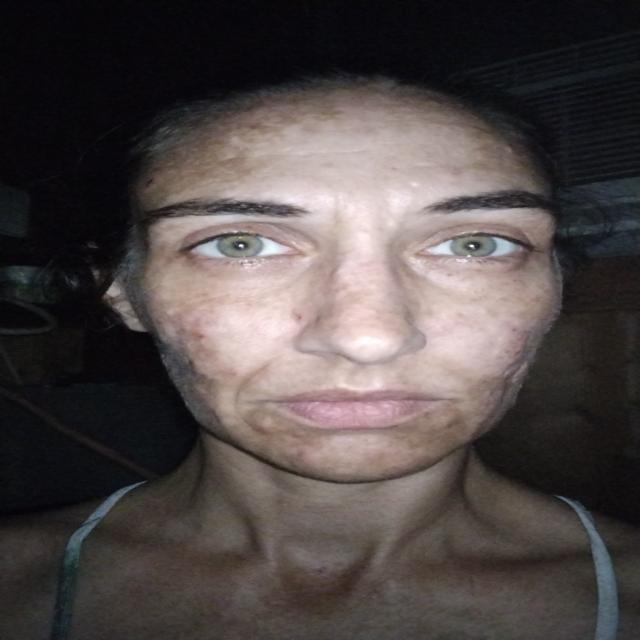Acne: (244, 410, 273, 433), (139, 174, 160, 193), (444, 164, 466, 177), (289, 312, 307, 324), (292, 450, 307, 464), (184, 357, 198, 371), (193, 316, 209, 328), (292, 429, 308, 440), (175, 325, 192, 335), (192, 332, 210, 341), (244, 124, 264, 132), (510, 348, 522, 358)
Wrinkles: (227, 360, 278, 440), (217, 146, 373, 162), (268, 125, 384, 133), (331, 192, 350, 230)
